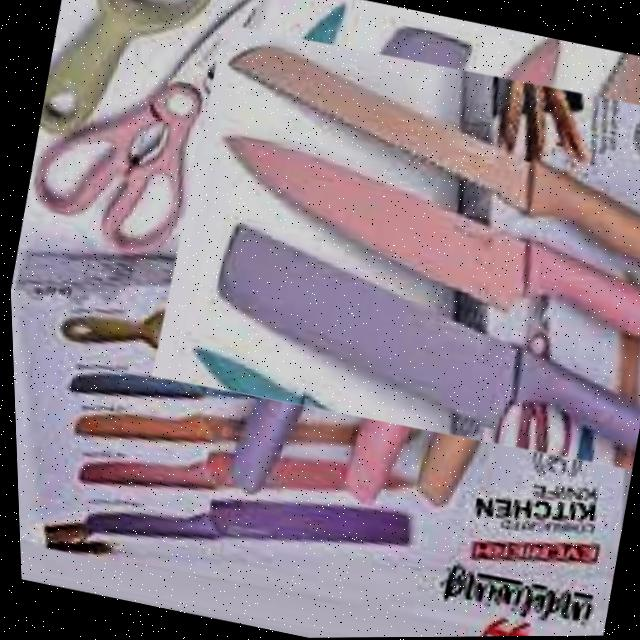knife: (193, 216, 640, 463), (206, 34, 640, 276), (198, 127, 640, 350)
